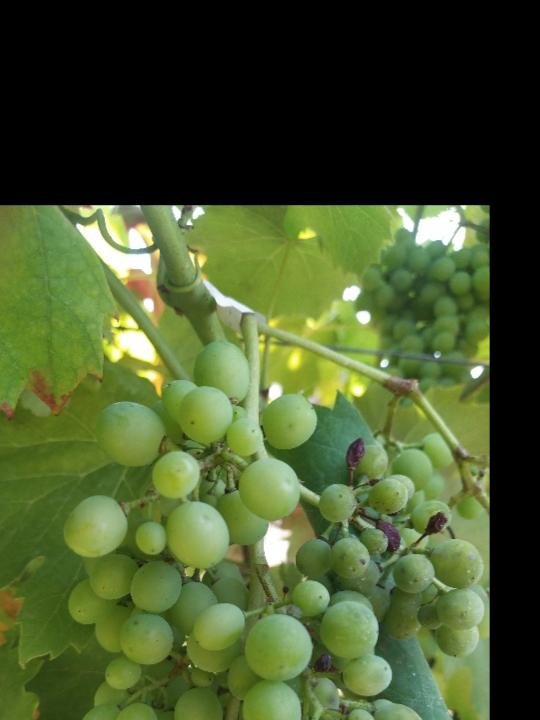grape: (61, 333, 484, 720)
